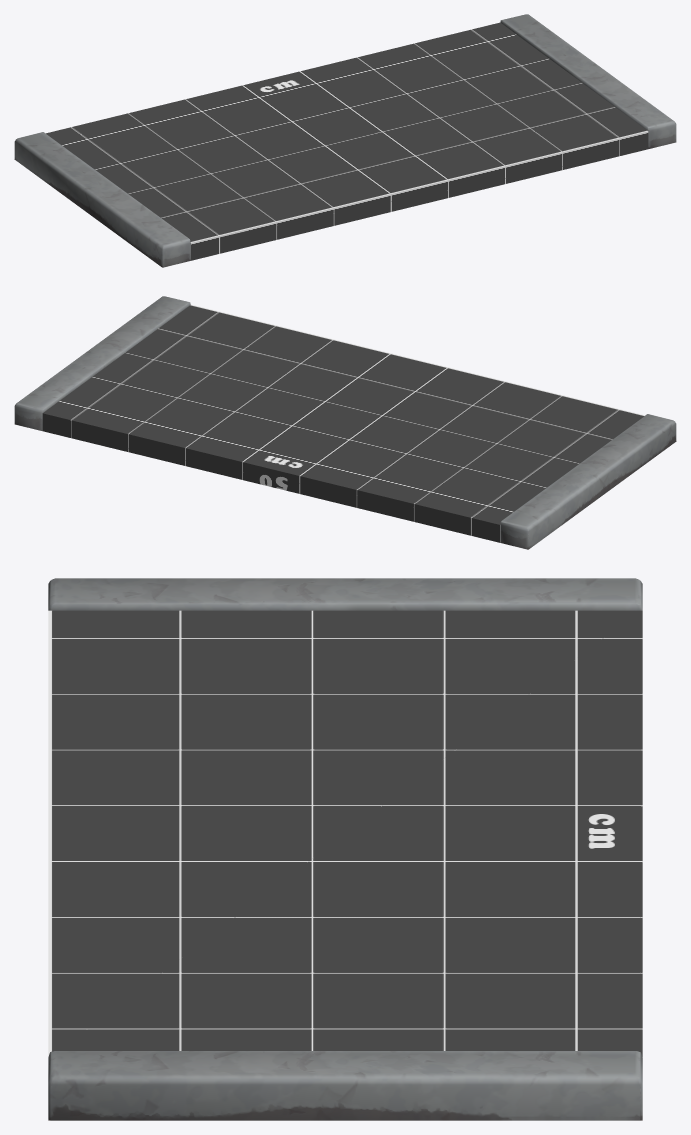
File: M02SideWalk03_6.FBX
3 renders of one model, top to bottom at view 1: azimuth 30°, elevation 25°; view 2: azimuth 150°, elevation 25°; view 3: azimuth 270°, elevation 25°, orthographic. The views are drawn at different scales.
Visible parts, largest first — view 1: M02SideWalk03_6; view 2: M02SideWalk03_6; view 3: M02SideWalk03_6.
Boxes of the visible parts, <box> form: M02SideWalk03_6: <box>14,14,676,267</box>; M02SideWalk03_6: <box>14,296,676,549</box>; M02SideWalk03_6: <box>48,578,642,1120</box>.
Size of what is drawn, in the model's own units: 4.5 by 0.1783 by 2.25.
